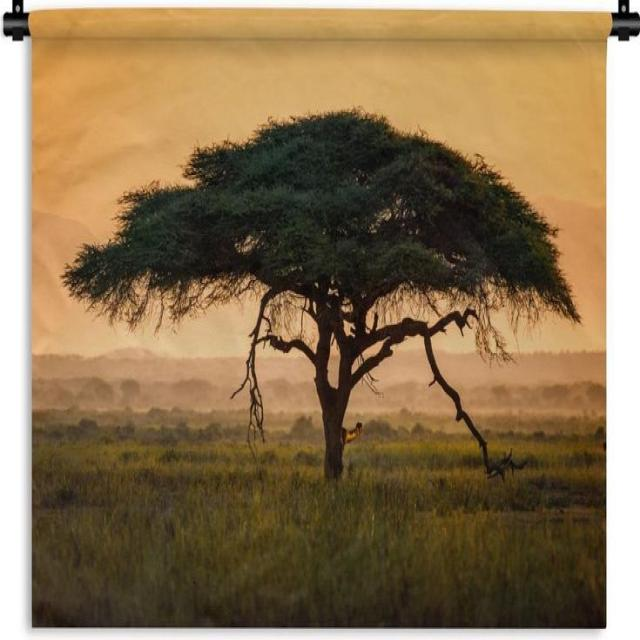Acacia: (92, 118, 560, 397)
